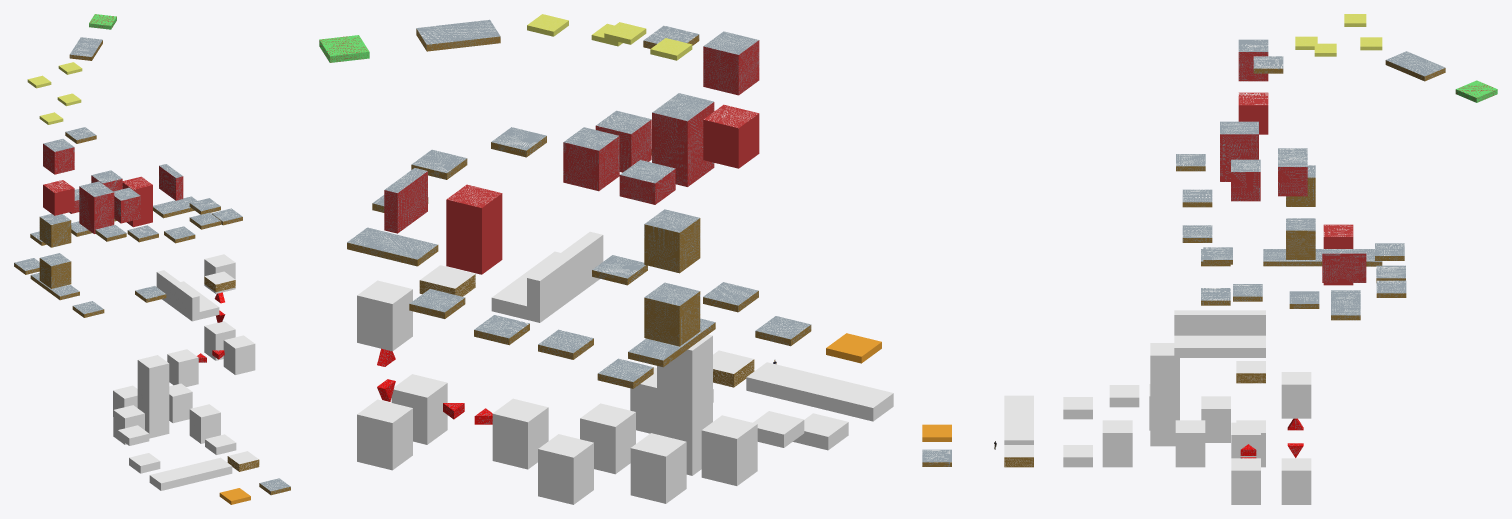
Rendered from Platform_LvlTest.fbx.
The picture shows the model from 3 angles, left to right: view 1: azimuth 30°, elevation 25°; view 2: azimuth 150°, elevation 25°; view 3: azimuth 270°, elevation 25°; orthographic projection. The views are drawn at different scales.
Visible parts, largest first — view 1: PlatformBouncy_SM6, PlatformGravity_2_2, PlatformBouncy_SM4, PlatformBouncy_SM18, PlatformBouncy_SM13, PlatformBouncy_SM3, PlatformBouncy_SM12, PlatformLow_SM_3_1, PlatformLow_SM_3_2, PlatformLow_SM_9_1, PlatformLow_SM_10_1, PlatformGravity_2_1 (+30 smaller); view 2: PlatformBouncy_SM6, PlatformBouncy_SM4, PlatformGravity, PlatformGravity_2_2, PlatformBouncy_SM18, PlatformBouncy_SM8, PlatformBouncy_SM7, PlatformBouncy_SM11, PlatformBouncy_SM14, PlatformBouncy_SM15, PlatformBouncy_SM12, PlatformLow_SM_9_1 (+33 smaller); view 3: PlatformBouncy_SM6, PlatformBouncy_SM18, PlatformBouncy_SM17, PlatformGravity_2_2, PlatformGravity_2, PlatformBouncy_SM4, PlatformBouncy_SM3, PlatformBouncy_SM10, PlatformBouncy_SM14, PlatformBouncy_SM15, PlatformBouncy_SM13, PlatformBouncy_SM8 (+15 smaller).
Part boxes in pixels (box(x1,y1,x2,y2)): PlatformBouncy_SM6: box(137, 355, 169, 438); PlatformGravity_2_2: box(79, 181, 114, 233); PlatformBouncy_SM4: box(149, 457, 232, 490); PlatformBouncy_SM18: box(156, 270, 199, 321); PlatformBouncy_SM13: box(223, 335, 255, 374); PlatformBouncy_SM3: box(189, 404, 220, 443); PlatformBouncy_SM12: box(167, 349, 198, 386); PlatformLow_SM_3_1: box(39, 253, 71, 288); PlatformLow_SM_3_2: box(39, 214, 71, 247); PlatformLow_SM_9_1: box(43, 180, 74, 215); PlatformLow_SM_10_1: box(43, 139, 74, 174); PlatformGravity_2_1: box(113, 187, 140, 223); PlatformBouncy_SM6: box(657, 334, 712, 475); PlatformBouncy_SM4: box(746, 362, 893, 421); PlatformGravity: box(446, 184, 502, 274); PlatformGravity_2_2: box(652, 93, 714, 186); PlatformBouncy_SM18: box(527, 231, 603, 322); PlatformBouncy_SM8: box(630, 433, 686, 503); PlatformBouncy_SM7: box(701, 415, 757, 485); PlatformBouncy_SM11: box(538, 434, 593, 504); PlatformBouncy_SM14: box(357, 399, 412, 470); PlatformBouncy_SM15: box(357, 280, 412, 351); PlatformBouncy_SM12: box(492, 398, 548, 469); PlatformLow_SM_9_1: box(703, 104, 759, 168); PlatformBouncy_SM6: box(1150, 343, 1179, 446); PlatformBouncy_SM18: box(1174, 310, 1265, 335); PlatformBouncy_SM17: box(1174, 335, 1265, 357); PlatformGravity_2_2: box(1220, 121, 1258, 181); PlatformGravity_2: box(1322, 249, 1366, 282); PlatformBouncy_SM4: box(1004, 395, 1033, 444); PlatformBouncy_SM3: box(1102, 420, 1132, 467); PlatformBouncy_SM10: box(1175, 420, 1205, 467); PlatformBouncy_SM14: box(1281, 458, 1311, 504); PlatformBouncy_SM15: box(1281, 372, 1311, 418); PlatformBouncy_SM13: box(1231, 458, 1260, 504); PlatformBouncy_SM8: box(1201, 396, 1230, 442).
Bounding box in the file's own units: 54.37 × 80.69 × 106.
